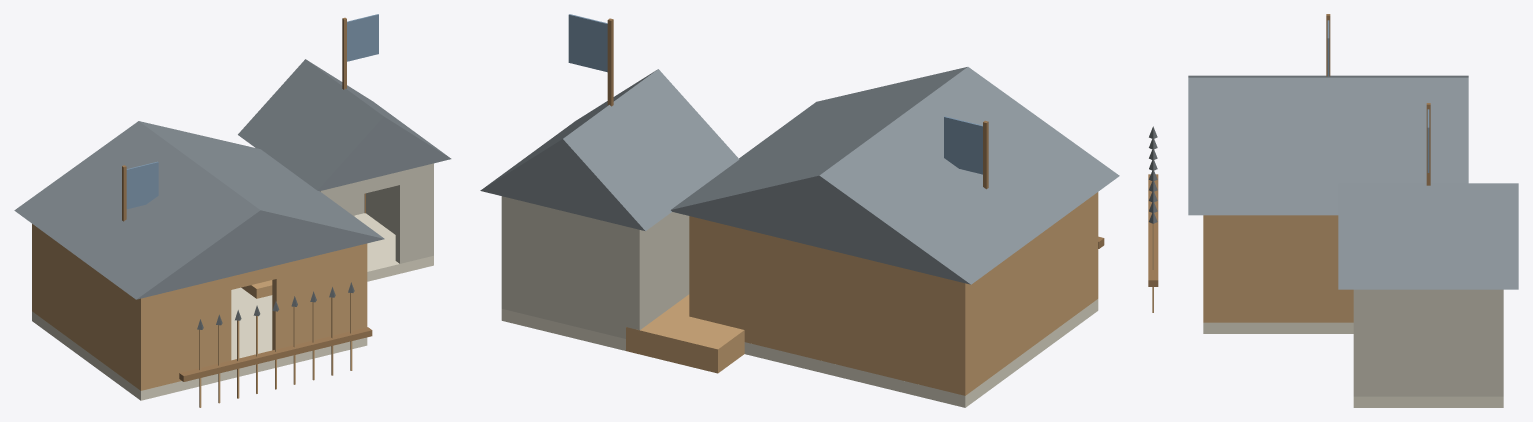
Rendered from militia-barracks-upgraded.glb.
3 renders of one model, left to right at view 1: azimuth 30°, elevation 25°; view 2: azimuth 150°, elevation 25°; view 3: azimuth 270°, elevation 25°, orthographic. The views are drawn at different scales.
Visible parts, largest first — view 1: militia-barracks-upgraded; view 2: militia-barracks-upgraded; view 3: militia-barracks-upgraded.
Part boxes in pixels (<box>): militia-barracks-upgraded: <box>14,14,451,407</box>; militia-barracks-upgraded: <box>480,14,1119,407</box>; militia-barracks-upgraded: <box>1148,14,1518,407</box>.
Size of the model in its own units: 10.1 by 6 by 7.4.
